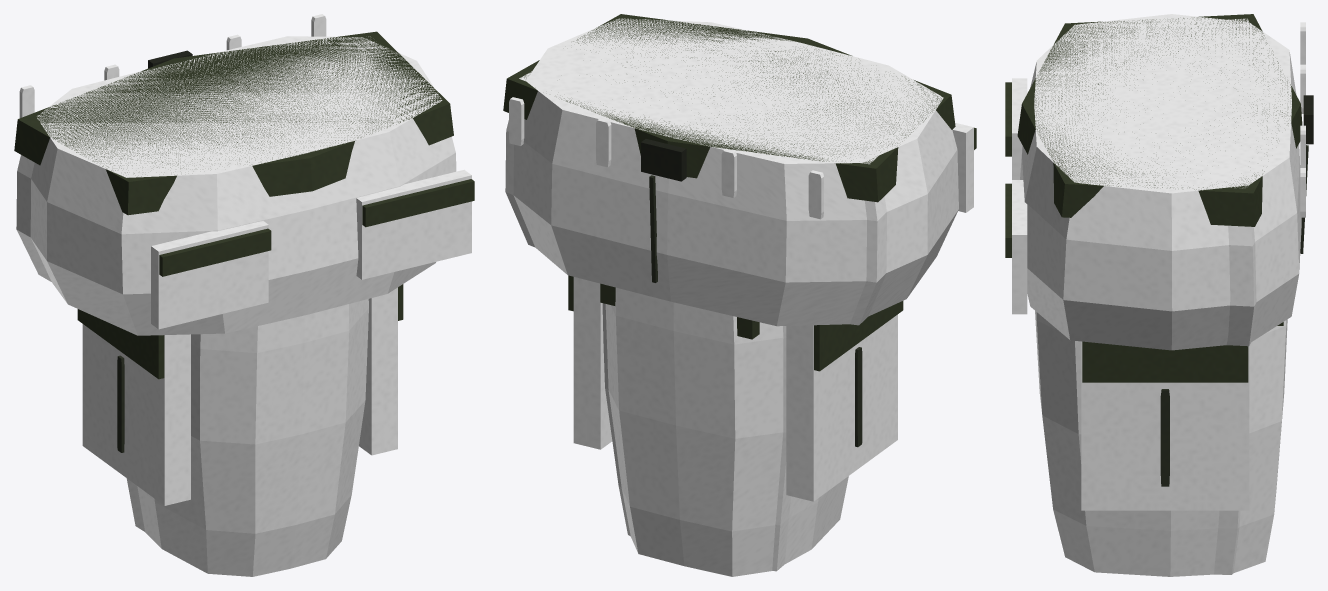
Rendered from trousers_bdu.glb.
The picture shows the model from 3 angles, left to right: view 1: azimuth 30°, elevation 25°; view 2: azimuth 150°, elevation 25°; view 3: azimuth 270°, elevation 25°; orthographic projection. The views are drawn at different scales.
Visible parts, largest first — view 1: trousers_bdu_pelvis_LOD0_RAID_cloth.001, trousers_bdu_thighL_LOD0_RAID_cloth.001, trousers_bdu_pelvis_LOD0_RAID_reinforce.001, trousers_bdu_pelvis_LOD1_RAID_cloth.001, trousers_bdu_thighL_LOD1_RAID_cloth.001, trousers_bdu_thighR_LOD0_RAID_cloth.001, trousers_bdu_thighR_LOD1_RAID_cloth.001, trousers_bdu_pelvis_LOD1_RAID_reinforce.001, trousers_bdu_thighL_LOD0_RAID_reinforce.001, trousers_bdu_thighL_LOD1_RAID_reinforce.001, trousers_bdu_thighL_LOD0_RAID_seam.001; view 2: trousers_bdu_pelvis_LOD0_RAID_cloth.001, trousers_bdu_thighL_LOD0_RAID_cloth.001, trousers_bdu_pelvis_LOD1_RAID_cloth.001, trousers_bdu_thighL_LOD1_RAID_cloth.001, trousers_bdu_pelvis_LOD0_RAID_reinforce.001, trousers_bdu_thighR_LOD1_RAID_cloth.001, trousers_bdu_thighR_LOD0_RAID_cloth.001, trousers_bdu_thighL_LOD0_RAID_reinforce.001, trousers_bdu_pelvis_LOD0_RAID_zip.001, trousers_bdu_pelvis_LOD1_RAID_zip.001, trousers_bdu_thighL_LOD0_RAID_seam.001, trousers_bdu_pelvis_LOD0_RAID_seam.001 (+1 smaller); view 3: trousers_bdu_pelvis_LOD0_RAID_cloth.001, trousers_bdu_thighL_LOD0_RAID_cloth.001, trousers_bdu_thighR_LOD0_RAID_cloth.001, trousers_bdu_pelvis_LOD1_RAID_cloth.001, trousers_bdu_pelvis_LOD0_RAID_reinforce.001, trousers_bdu_thighR_LOD0_RAID_reinforce.001, trousers_bdu_thighR_LOD1_RAID_cloth.001, trousers_bdu_thighR_LOD1_RAID_reinforce.001, trousers_bdu_thighL_LOD1_RAID_cloth.001, trousers_bdu_thighR_LOD0_RAID_seam.001, trousers_bdu_pelvis_LOD1_RAID_reinforce.001, trousers_bdu_pelvis_LOD1_RAID_zip.001.
Part boxes in pixels (x1=…): trousers_bdu_pelvis_LOD0_RAID_cloth.001: x1=19, y1=14, x2=471, y2=335; trousers_bdu_thighL_LOD0_RAID_cloth.001: x1=82, y1=299, x2=368, y2=576; trousers_bdu_pelvis_LOD0_RAID_reinforce.001: x1=14, y1=31, x2=474, y2=275; trousers_bdu_pelvis_LOD1_RAID_cloth.001: x1=16, y1=36, x2=471, y2=329; trousers_bdu_thighL_LOD1_RAID_cloth.001: x1=82, y1=327, x2=190, y2=531; trousers_bdu_thighR_LOD0_RAID_cloth.001: x1=360, y1=287, x2=397, y2=442; trousers_bdu_thighR_LOD1_RAID_cloth.001: x1=359, y1=295, x2=397, y2=455; trousers_bdu_pelvis_LOD1_RAID_reinforce.001: x1=159, y1=179, x2=474, y2=276; trousers_bdu_thighL_LOD0_RAID_reinforce.001: x1=77, y1=309, x2=164, y2=375; trousers_bdu_thighL_LOD1_RAID_reinforce.001: x1=77, y1=314, x2=164, y2=379; trousers_bdu_thighL_LOD0_RAID_seam.001: x1=117, y1=355, x2=124, y2=452; trousers_bdu_pelvis_LOD0_RAID_cloth.001: x1=509, y1=18, x2=973, y2=326; trousers_bdu_thighL_LOD0_RAID_cloth.001: x1=605, y1=287, x2=897, y2=576; trousers_bdu_pelvis_LOD1_RAID_cloth.001: x1=505, y1=19, x2=973, y2=325; trousers_bdu_thighL_LOD1_RAID_cloth.001: x1=602, y1=303, x2=897, y2=571; trousers_bdu_pelvis_LOD0_RAID_reinforce.001: x1=503, y1=14, x2=976, y2=202; trousers_bdu_thighR_LOD1_RAID_cloth.001: x1=573, y1=277, x2=612, y2=449; trousers_bdu_thighR_LOD0_RAID_cloth.001: x1=573, y1=277, x2=601, y2=420; trousers_bdu_thighL_LOD0_RAID_reinforce.001: x1=814, y1=305, x2=896, y2=367; trousers_bdu_pelvis_LOD0_RAID_zip.001: x1=641, y1=140, x2=686, y2=180; trousers_bdu_pelvis_LOD1_RAID_zip.001: x1=641, y1=139, x2=686, y2=181; trousers_bdu_thighL_LOD0_RAID_seam.001: x1=855, y1=347, x2=862, y2=447; trousers_bdu_pelvis_LOD0_RAID_seam.001: x1=649, y1=175, x2=657, y2=282; trousers_bdu_pelvis_LOD0_RAID_cloth.001: x1=1012, y1=14, x2=1305, y2=350; trousers_bdu_thighL_LOD0_RAID_cloth.001: x1=1035, y1=311, x2=1287, y2=576; trousers_bdu_thighR_LOD0_RAID_cloth.001: x1=1081, y1=341, x2=1249, y2=510; trousers_bdu_pelvis_LOD1_RAID_cloth.001: x1=1012, y1=18, x2=1282, y2=346; trousers_bdu_pelvis_LOD0_RAID_reinforce.001: x1=1005, y1=14, x2=1302, y2=255; trousers_bdu_thighR_LOD0_RAID_reinforce.001: x1=1082, y1=341, x2=1248, y2=382; trousers_bdu_thighR_LOD1_RAID_cloth.001: x1=1081, y1=382, x2=1249, y2=510; trousers_bdu_thighR_LOD1_RAID_reinforce.001: x1=1082, y1=342, x2=1248, y2=382; trousers_bdu_thighL_LOD1_RAID_cloth.001: x1=1214, y1=510, x2=1240, y2=574; trousers_bdu_thighR_LOD0_RAID_seam.001: x1=1160, y1=389, x2=1169, y2=486; trousers_bdu_pelvis_LOD1_RAID_reinforce.001: x1=1005, y1=82, x2=1011, y2=257; trousers_bdu_pelvis_LOD1_RAID_zip.001: x1=1303, y1=95, x2=1313, y2=144.
Bounding box in the file's own units: 0.404 × 0.438 × 0.2775.
4 materials, 4 textured.
